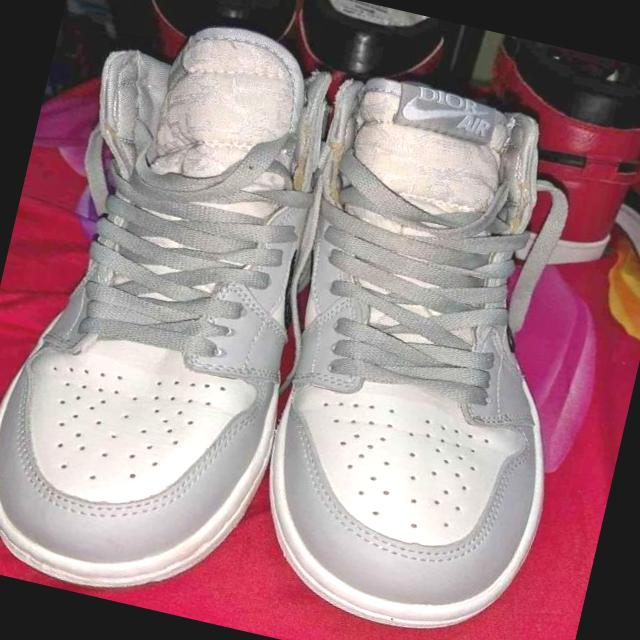nike_fake_jordan: (219, 62, 631, 640), (0, 0, 365, 623)
